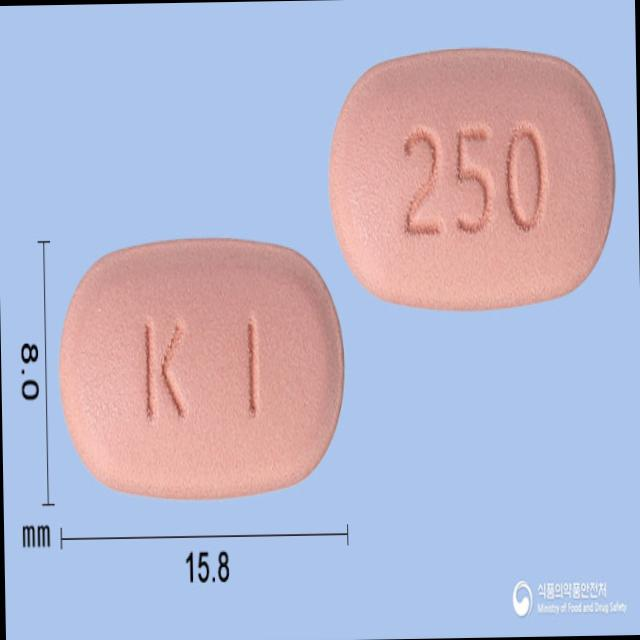Levogun: (326, 41, 618, 310), (55, 235, 348, 500)
